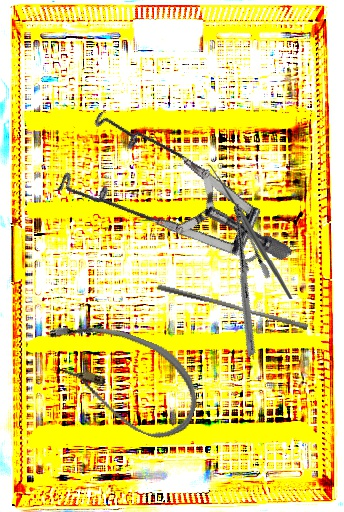Cannula: (28, 307, 212, 448)
Hook Surgical: (200, 163, 294, 301)
Needle Holder: (172, 202, 316, 358)
Pusher: (155, 283, 310, 331)
Speculum: (35, 64, 293, 340)
